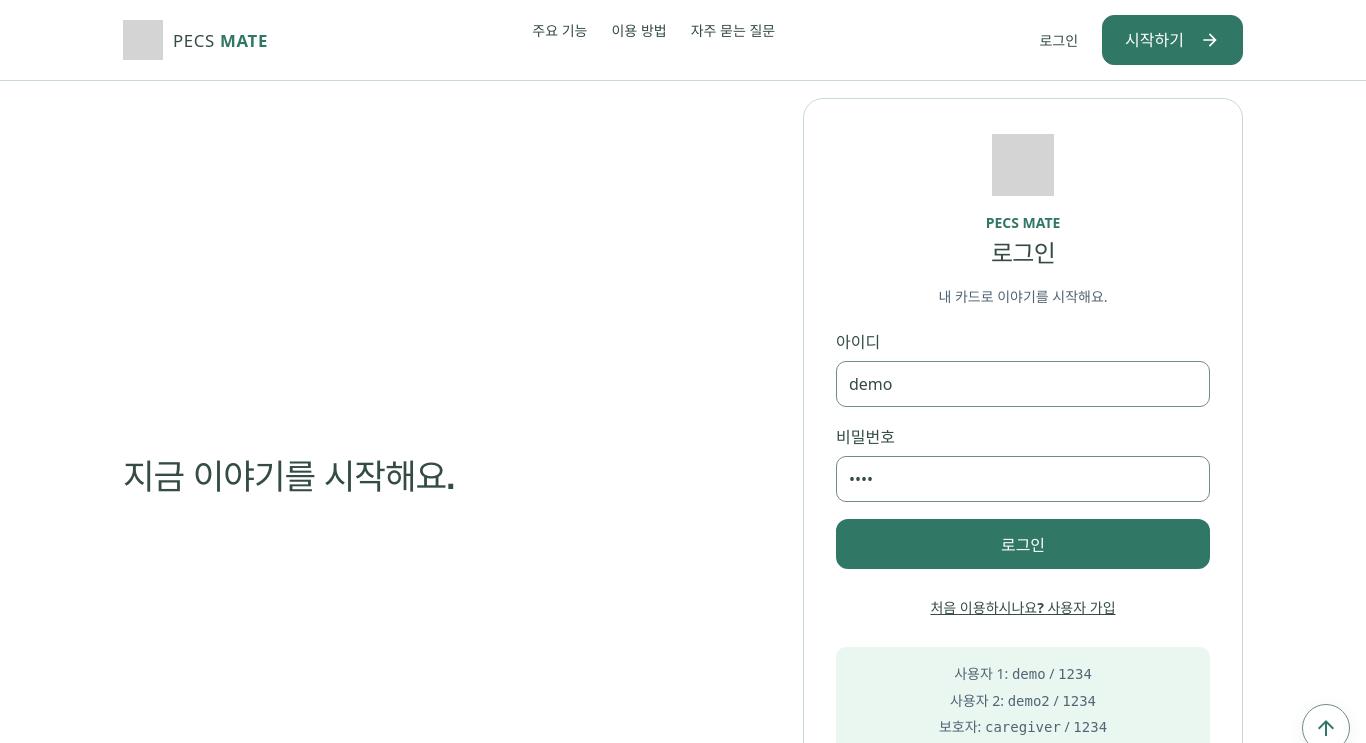
Test: renders the authentication flow and reports a failed login without retaining a token
(page scrolled)
Replace the text in the field labelled "아이디" with "synthetic" at (1023, 384), box [836,361,1210,407]
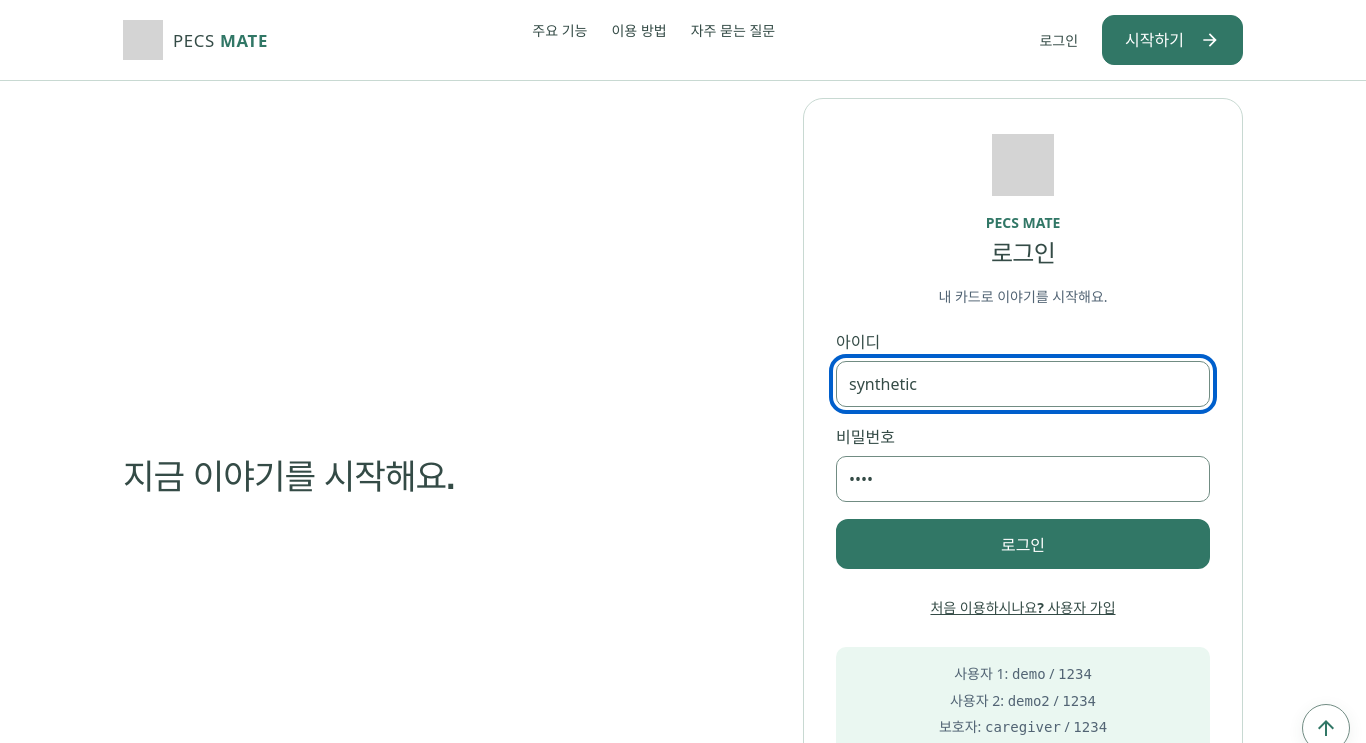
Type "synthetic-password" into the password field labelled "비밀번호" at (1023, 479), box [836,456,1210,502]
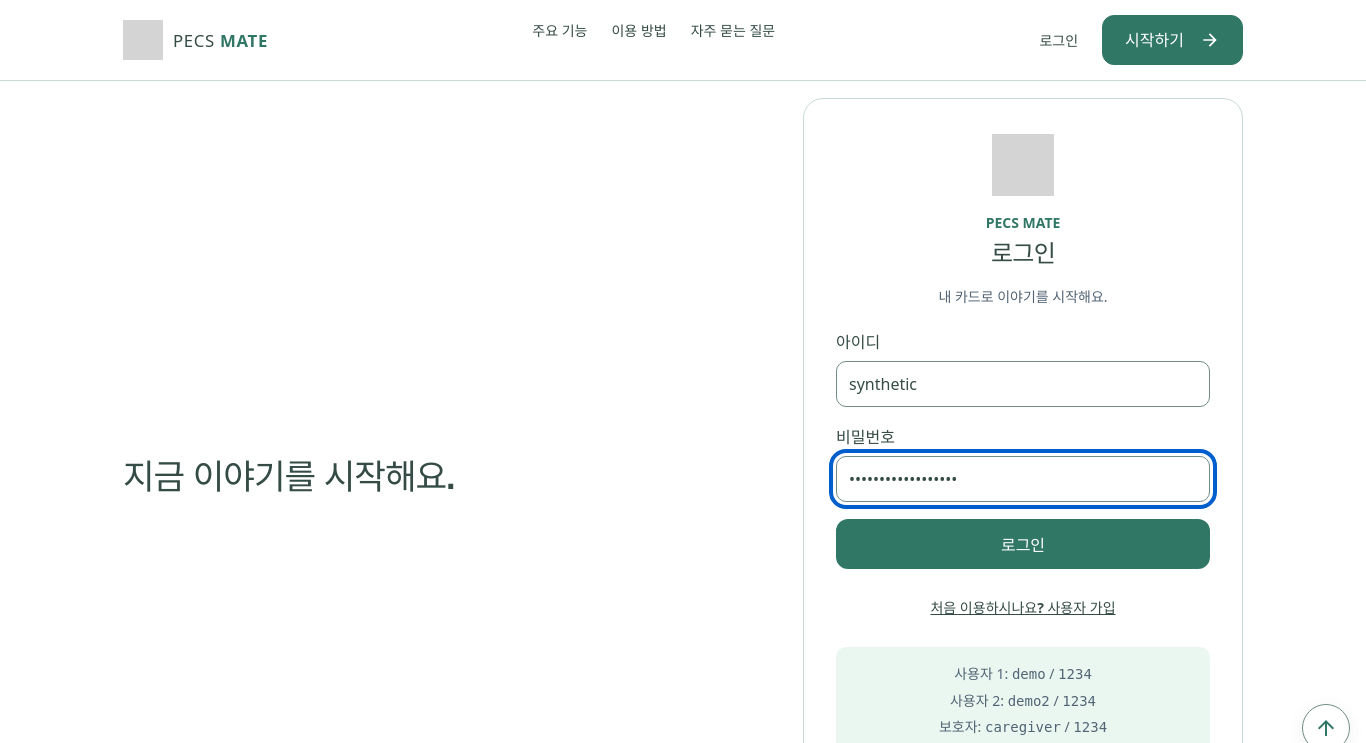
Click the button "로그인" at (1023, 544), box [836,519,1210,569]
(page scrolled)
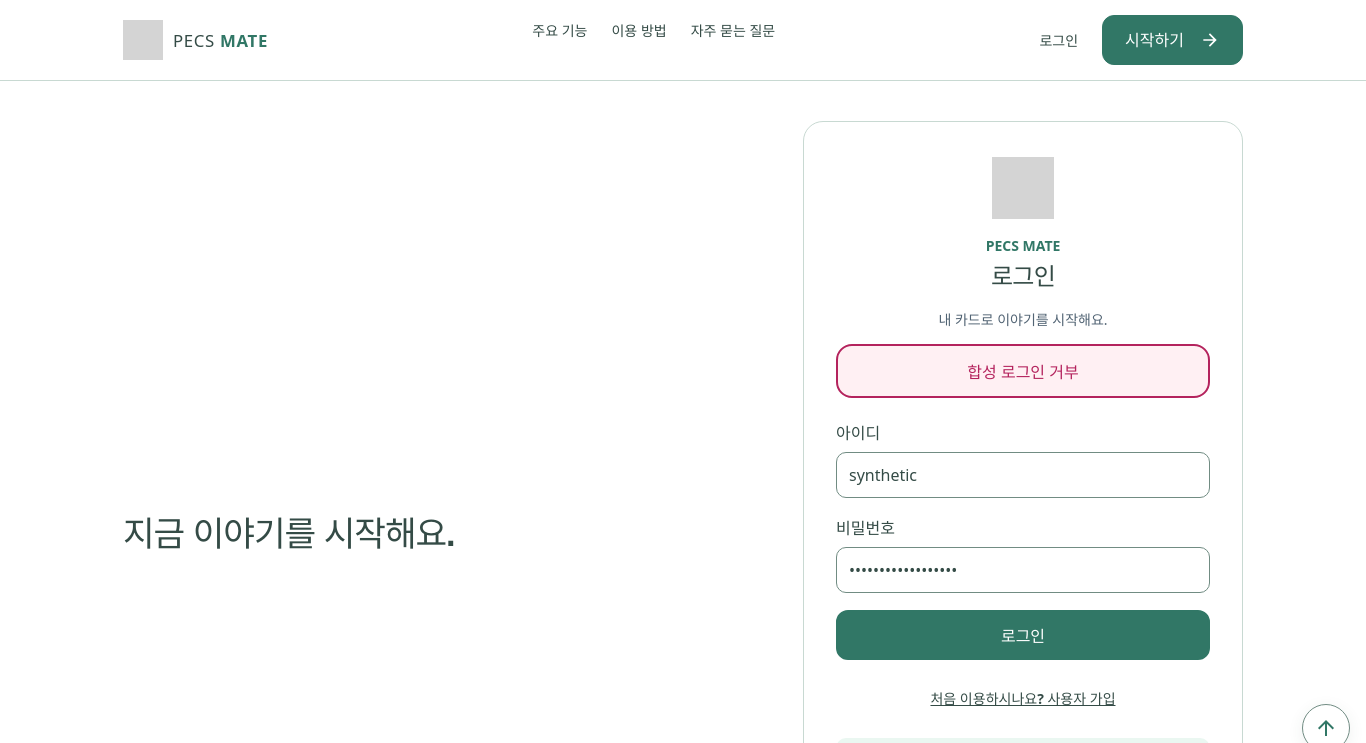
Expected: the text "합성 로그인 거부" is shown, [836,344,1210,398]
